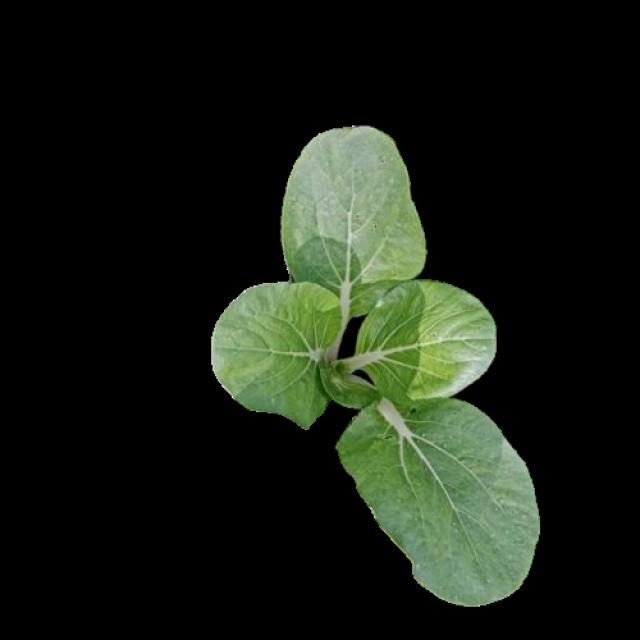not-mature: (215, 128, 550, 621)
unhealthy: (337, 392, 536, 604)
